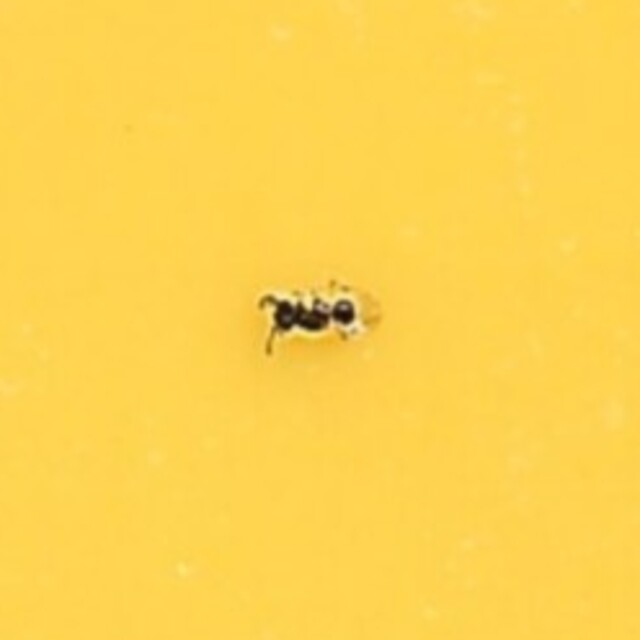Hymenoptera: (258, 277, 382, 363)
